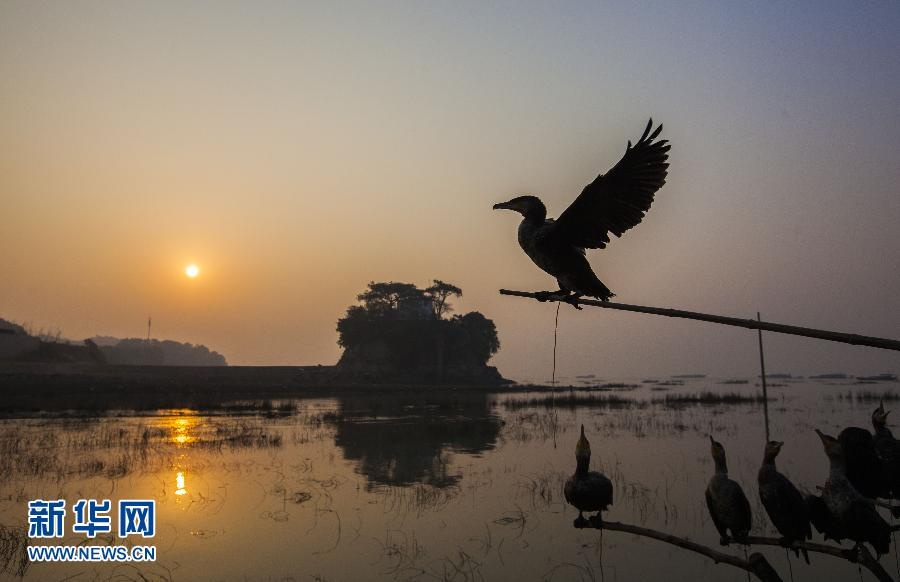bird: (490, 116, 683, 304), (813, 432, 894, 552), (548, 419, 623, 518), (761, 440, 821, 557), (702, 432, 756, 546)
